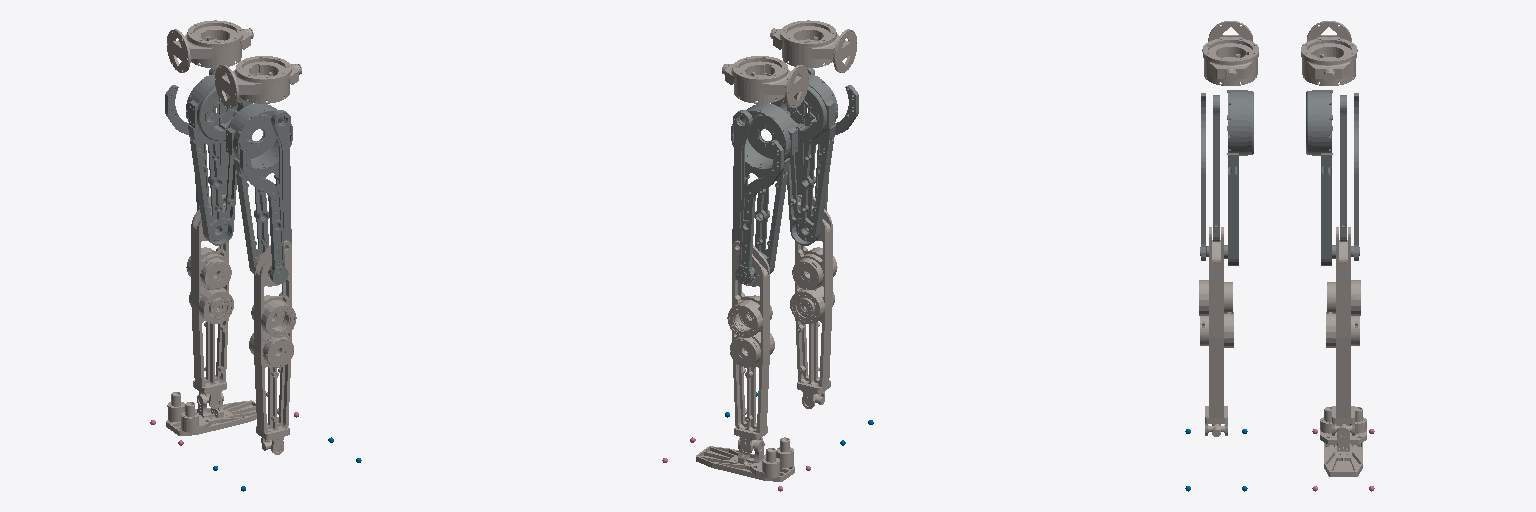
robot.urdf — biped_v3:
<?xml version="1.0" ?>
<!-- =================================================================================== -->
<!-- |    This document was autogenerated by xacro from [local-path]/workspace/kuavo-ros-control/src/humanoid-control/humanoid_interface_drake/models/biped_gen4.0/urdf/biped_v3.xacro | -->
<!-- |    EDITING THIS FILE BY HAND IS NOT RECOMMENDED                                 | -->
<!-- =================================================================================== -->
<robot name="biped_v3" xmlns:drake="https://drake.mit.edu">
  <link name="torso">
    <inertial>
      <origin rpy="0 0 0" xyz="0.00383143 0.0 0.18350901"/>
      <mass value="35.0676395"/>
      <inertia ixx="0.95851611" ixy="0.00026968" ixz="0.06381351" iyy="0.83635568" iyz="0.00069789" izz="0.29474019"/>
    </inertial>
    <visual>
      <origin rpy="0 0 0" xyz="0 0 0"/>
      <geometry>
        <mesh filename="../../meshes/base_link.STL"/>
      </geometry>
      <material name="">
        <color rgba="0.43137 0.45098 0.43137 1"/>
      </material>
    </visual>
    <!-- <collision>
      <origin xyz="0 0 0" rpy="0 0 0" />
      <geometry>
        <mesh filename="../../meshes/base_link.STL" />
      </geometry>
    </collision> -->
  </link>
  <link name="l_leg_roll">
    <inertial>
      <origin rpy="0 0 0" xyz="0.06614234 -0.00000119 -0.00862806"/>
      <mass value="1.53800733"/>
      <inertia ixx="0.00189451" ixy="-0.00000100" ixz="-0.00010566" iyy="0.00282649" iyz="-0.00000006" izz="0.00366404"/>
    </inertial>
    <visual>
      <origin rpy="0 0 0" xyz="0 0 0"/>
      <geometry>
        <mesh filename="../../meshes/l_leg_roll.STL"/>
      </geometry>
      <material name="">
        <color rgba="0.6902 0.65882 0.63922 1"/>
      </material>
    </visual>
  </link>
  <joint name="l_leg_roll_joint" type="continuous">
    <origin rpy="0 0 0" xyz="-0.139 0.088087 -0.065549"/>
    <parent link="torso"/>
    <child link="l_leg_roll"/>
    <axis xyz="1 0 0"/>
    <limit effort="100" lower="-0.78" upper="1.57" velocity="25"/>
  </joint>
  <!--        ssss -->
  <transmission type="SimpleTransmission">
    <joint name="l_leg_roll_joint"/>
    <actuator name="l_leg_roll_motor"/>
  </transmission>
  <!-- sssssssss -->
  <link name="l_leg_yaw">
    <inertial>
      <origin rpy="0 0 0" xyz="0.00000000 0.04610400 -0.13256100"/>
      <mass value="1.60096700"/>
      <inertia ixx="0.00698359" ixy="0.00000237" ixz="-0.00000315" iyy="0.00460736" iyz="-0.00105143" izz="0.00482586"/>
    </inertial>
    <visual>
      <origin rpy="0 0 0" xyz="0 0 0"/>
      <geometry>
        <mesh filename="../../meshes/l_leg_yaw.STL"/>
      </geometry>
      <material name="">
        <color rgba="0.65098 0.61961 0.58824 1"/>
      </material>
    </visual>
  </link>
  <joint name="l_leg_yaw_joint" type="continuous">
    <origin rpy="0 0 0" xyz="0.1365 -0.0010866 -0.033901"/>
    <parent link="l_leg_roll"/>
    <child link="l_leg_yaw"/>
    <axis xyz="0 0 1"/>
    <limit effort="100" lower="-1.57" upper="1.57" velocity="25"/>
  </joint>
  <!--        ssss -->
  <transmission type="SimpleTransmission">
    <joint name="l_leg_yaw_joint"/>
    <actuator name="l_leg_yaw_motor"/>
  </transmission>
  <!-- sssssssss -->
  <link name="l_leg_pitch">
    <inertial>
      <origin rpy="0 0 0" xyz="-0.00644903 -0.09813560 -0.05357606"/>
      <mass value="2.46657100"/>
      <inertia ixx="0.02261778" ixy="-0.00007906" ixz="-0.00029350" iyy="0.02315672" iyz="-0.00182962" izz="0.00415881"/>
    </inertial>
    <visual>
      <origin rpy="0 0 0" xyz="0 0 0"/>
      <geometry>
        <mesh filename="../../meshes/l_leg_pitch.STL"/>
      </geometry>
      <material name="">
        <color rgba="0.52941 0.54902 0.54902 1"/>
      </material>
    </visual>
  </link>
  <joint name="l_leg_pitch_joint" type="continuous">
    <origin rpy="0 0 0" xyz="0 0.094 -0.09"/>
    <parent link="l_leg_yaw"/>
    <child link="l_leg_pitch"/>
    <axis xyz="0 1 0"/>
    <limit effort="100" lower="-2.35" upper="0.78" velocity="47"/>
  </joint>
  <!--        ssss -->
  <transmission type="SimpleTransmission">
    <joint name="l_leg_pitch_joint"/>
    <actuator name="l_leg_pitch_motor"/>
  </transmission>
  <!-- sssssssss -->
  <link name="l_knee">
    <inertial>
      <origin rpy="0 0 0" xyz="0.00080045 -0.00004225 -0.12049699"/>
      <mass value="1.62911554"/>
      <inertia ixx="0.01343597" ixy="-0.00000234" ixz="0.00020391" iyy="0.01359234" iyz="0.00018311" izz="0.00092149"/>
    </inertial>
    <visual>
      <origin rpy="0 0 0" xyz="0 0 0"/>
      <geometry>
        <mesh filename="../../meshes/l_knee.STL"/>
      </geometry>
      <material name="">
        <color rgba="0.68627 0.65882 0.63922 1"/>
      </material>
    </visual>
  </link>
  <joint name="l_knee_pitch_joint" type="revolute">
    <origin rpy="0 0 0" xyz="0.004136 -0.06635 -0.24997"/>
    <parent link="l_leg_pitch"/>
    <child link="l_knee"/>
    <axis xyz="0 1 0"/>
    <limit effort="100" lower="0.0" upper="2.61" velocity="47"/>
  </joint>
  <!--        ssss -->
  <transmission type="SimpleTransmission">
    <joint name="l_knee_pitch_joint"/>
    <actuator name="l_knee_pitch_motor"/>
  </transmission>
  <!-- sssssssss -->
  <link name="l_foot_pitch">
    <inertial>
      <origin rpy="0 0 0" xyz="0.00000000 -0.02099982 0"/>
      <mass value="0.05444454"/>
      <inertia ixx="0.00000411" ixy="0.00000000" ixz="0.00000000" iyy="0.00000411" iyz="0.00000000" izz="0.00000728"/>
    </inertial>
    <visual>
      <origin rpy="0 0 0" xyz="0 0 0"/>
      <geometry>
        <mesh filename="../../meshes/l_foot_pitch.STL"/>
      </geometry>
      <material name="">
        <color rgba="0.6902 0.65882 0.63922 1"/>
      </material>
    </visual>
  </link>
  <joint name="l_foot_pitch_joint" type="continuous">
    <origin rpy="0 0 0" xyz="0 -0.0022 -0.346"/>
    <parent link="l_knee"/>
    <child link="l_foot_pitch"/>
    <axis xyz="0 1 0"/>
    <limit effort="100" lower="-1.57" upper="1.57" velocity="25"/>
  </joint>
  <transmission type="SimpleTransmission">
    <joint name="l_foot_pitch_joint"/>
    <actuator name="l_foot_pitch_motor"/>
  </transmission>
  <!-- sssssssss -->
  <link name="l_foot_roll">
    <inertial>
      <origin rpy="0 0 0" xyz="-0.03594832 0.00000978 -0.02713029"/>
      <mass value="0.46707519"/>
      <inertia ixx="0.00040711" ixy="0.00000016" ixz="-0.00023147" iyy="0.00127525" iyz="-0.00000006" izz="0.00135360"/>
    </inertial>
    <visual>
      <origin rpy="0 0 0" xyz="0 0 0"/>
      <geometry>
        <mesh filename="../../meshes/l_foot_roll.STL"/>
      </geometry>
      <material name="">
        <color rgba="0.6902 0.65882 0.63922 1"/>
      </material>
    </visual>
    <visual>
      <origin rpy="0 0 0" xyz="-0.09 0.05 -0.0465"/>
      <geometry>
        <sphere radius="0.005"/>
      </geometry>
    </visual>
    <collision>
      <origin rpy="0 0 0" xyz="-0.09 0.05 -0.0465"/>
      <geometry>
        <sphere radius="0.005"/>
      </geometry>
    </collision>
    <visual>
      <origin rpy="0 0 0" xyz="-0.09 -0.05 -0.0465"/>
      <geometry>
        <sphere radius="0.005"/>
      </geometry>
    </visual>
    <collision>
      <origin rpy="0 0 0" xyz="-0.09 -0.05 -0.0465"/>
      <geometry>
        <sphere radius="0.005"/>
      </geometry>
    </collision>
    <visual>
      <origin rpy="0 0 0" xyz="0.15 0.05 -0.0465"/>
      <geometry>
        <sphere radius="0.005"/>
      </geometry>
    </visual>
    <collision>
      <origin rpy="0 0 0" xyz="0.15 0.05 -0.0465"/>
      <geometry>
        <sphere radius="0.005"/>
      </geometry>
    </collision>
    <visual>
      <origin rpy="0 0 0" xyz="0.15 -0.05 -0.0465"/>
      <geometry>
        <sphere radius="0.005"/>
      </geometry>
    </visual>
    <collision>
      <origin rpy="0 0 0" xyz="0.15 -0.05 -0.0465"/>
      <geometry>
        <sphere radius="0.005"/>
      </geometry>
    </collision>
  </link>
  <joint name="l_foot_roll_joint" type="continuous">
    <origin rpy="0 0 0" xyz="0 0 0"/>
    <parent link="l_foot_pitch"/>
    <child link="l_foot_roll"/>
    <axis xyz="1 0 0"/>
    <limit effort="100" lower="-1.39" upper="0.78" velocity="25"/>
  </joint>
  <transmission type="SimpleTransmission">
    <joint name="l_foot_roll_joint"/>
    <actuator name="l_foot_roll_motor"/>
  </transmission>
  <!-- sssssssss -->
  <frame link="l_foot_roll" name="l_foot_sole" xyz="0.03 0.0 -0.0465"/>
  <frame link="l_foot_roll" name="l_foot_toe" xyz="0.15 0.0 -0.0465"/>
  <frame link="l_foot_roll" name="l_foot_heel" xyz="-0.09 0.0 -0.0465"/>
  <link name="r_leg_roll">
    <inertial>
      <origin rpy="0 0 0" xyz="0.06614233 0.00000119 -0.00862806"/>
      <mass value="1.53800714"/>
      <inertia ixx="0.00189451" ixy="0.00000100" ixz="-0.00010566" iyy="0.00282648" iyz="0.00000006" izz="0.00366404"/>
    </inertial>
    <visual>
      <origin rpy="0 0 0" xyz="0 0 0"/>
      <geometry>
        <mesh filename="../../meshes/r_leg_roll.STL"/>
      </geometry>
      <material name="">
        <color rgba="0.6902 0.65882 0.63922 1"/>
      </material>
    </visual>
  </link>
  <joint name="r_leg_roll_joint" type="continuous">
    <origin rpy="0 0 0" xyz="-0.139 -0.088087 -0.065549"/>
    <parent link="torso"/>
    <child link="r_leg_roll"/>
    <axis xyz="1 0 0"/>
    <limit effort="100" lower="-1.57" upper="0.78" velocity="25"/>
  </joint>
  <!--        ssss -->
  <transmission type="SimpleTransmission">
    <joint name="r_leg_roll_joint"/>
    <actuator name="r_leg_roll_motor"/>
  </transmission>
  <!-- sssssssss -->
  <link name="r_leg_yaw">
    <inertial>
      <origin rpy="0 0 0" xyz="0.00004661 -0.04610359 -0.13257364"/>
      <mass value="1.60096695"/>
      <inertia ixx="0.00520439" ixy="-0.00000302" ixz="-0.00000372" iyy="0.00397740" iyz="0.00063198" izz="0.00391648"/>
    </inertial>
    <visual>
      <origin rpy="0 0 0" xyz="0 0 0"/>
      <geometry>
        <mesh filename="../../meshes/r_leg_yaw.STL"/>
      </geometry>
      <material name="">
        <color rgba="0.650980392156863 0.619607843137255 0.588235294117647 1"/>
      </material>
    </visual>
  </link>
  <joint name="r_leg_yaw_joint" type="continuous">
    <origin rpy="0 0 0" xyz="0.1365 0.0010866 -0.033901"/>
    <parent link="r_leg_roll"/>
    <child link="r_leg_yaw"/>
    <axis xyz="0 0 1"/>
    <limit effort="100" lower="-1.57" upper="1.57" velocity="25"/>
  </joint>
  <!--        ssss -->
  <transmission type="SimpleTransmission">
    <joint name="r_leg_yaw_joint"/>
    <actuator name="r_leg_yaw_motor"/>
  </transmission>
  <!-- sssssssss -->
  <link name="r_leg_pitch">
    <inertial>
      <origin rpy="0 0 0" xyz="-0.00644903 0.09813560 -0.05357606"/>
      <mass value="2.46657141"/>
      <inertia ixx="0.02254838" ixy="0.00023457" ixz="0.00013808" iyy="0.02319666" iyz="0.00259984" izz="0.00432904"/>
    </inertial>
    <visual>
      <origin rpy="0 0 0" xyz="0 0 0"/>
      <geometry>
        <mesh filename="../../meshes/r_leg_pitch.STL"/>
      </geometry>
      <material name="">
        <color rgba="0.529411764705882 0.549019607843137 0.549019607843137 1"/>
      </material>
    </visual>
  </link>
  <joint name="r_leg_pitch_joint" type="continuous">
    <origin rpy="0 0 0" xyz="0 -0.094 -0.09"/>
    <parent link="r_leg_yaw"/>
    <child link="r_leg_pitch"/>
    <axis xyz="0 1 0"/>
    <limit effort="100" lower="-2.35" upper="0.78" velocity="47"/>
  </joint>
  <!--        ssss -->
  <transmission type="SimpleTransmission">
    <joint name="r_leg_pitch_joint"/>
    <actuator name="r_leg_pitch_motor"/>
  </transmission>
  <!-- sssssssss -->
  <link name="r_knee">
    <inertial>
      <origin rpy="0 0 0" xyz="0.00080045 0.00004225 -0.12049699"/>
      <mass value="1.62911540"/>
      <inertia ixx="0.01343597" ixy="0.00000234" ixz="0.00020391" iyy="0.01359234" iyz="-0.00018311" izz="0.00092149"/>
    </inertial>
    <visual>
      <origin rpy="0 0 0" xyz="0 0 0"/>
      <geometry>
        <mesh filename="../../meshes/r_knee.STL"/>
      </geometry>
      <material name="">
        <color rgba="0.686274509803922 0.658823529411765 0.63921568627451 1"/>
      </material>
    </visual>
  </link>
  <joint name="r_knee_pitch_joint" type="revolute">
    <origin rpy="0 0 0" xyz="0.004136 0.06635 -0.24997"/>
    <parent link="r_leg_pitch"/>
    <child link="r_knee"/>
    <axis xyz="0 1 0"/>
    <limit effort="100" lower="0.0" upper="2.61" velocity="47"/>
  </joint>
  <!--        ssss -->
  <transmission type="SimpleTransmission">
    <joint name="r_knee_pitch_joint"/>
    <actuator name="r_knee_pitch_motor"/>
  </transmission>
  <!-- sssssssss -->
  <link name="r_foot_pitch">
    <inertial>
      <origin rpy="0 0 0" xyz="0 0.02100018 0"/>
      <mass value="0.05444454"/>
      <inertia ixx="0.00000411" ixy="0" ixz="0" iyy="0.00000411" iyz="0" izz="0.00000728"/>
    </inertial>
    <visual>
      <origin rpy="0 0 0" xyz="0 0 0"/>
      <geometry>
        <mesh filename="../../meshes/r_foot_pitch.STL"/>
      </geometry>
      <material name="">
        <color rgba="0.690196078431373 0.658823529411765 0.63921568627451 1"/>
      </material>
    </visual>
  </link>
  <joint name="r_foot_pitch_joint" type="continuous">
    <origin rpy="0 0 0" xyz="0 0.0022 -0.346"/>
    <parent link="r_knee"/>
    <child link="r_foot_pitch"/>
    <axis xyz="0 1 0"/>
    <limit effort="100" lower="-1.57" upper="1.57" velocity="25"/>
  </joint>
  <!--        ssss -->
  <transmission type="SimpleTransmission">
    <joint name="r_foot_pitch_joint"/>
    <actuator name="r_foot_pitch_motor"/>
  </transmission>
  <!-- sssssssss -->
  <link name="r_foot_roll">
    <inertial>
      <origin rpy="0 0 0" xyz="-0.03594837 -0.00000972 -0.02713025"/>
      <mass value="0.46707428"/>
      <inertia ixx="0.00040710" ixy="-0.00000016" ixz="-0.00023147" iyy="0.00127525" iyz="0.00000006" izz="0.00135359"/>
    </inertial>
    <visual>
      <origin rpy="0 0 0" xyz="0 0 0"/>
      <geometry>
        <mesh filename="../../meshes/r_foot_roll.STL"/>
      </geometry>
      <material name="">
        <color rgba="0.690196078431373 0.658823529411765 0.63921568627451 1"/>
      </material>
    </visual>
    <visual>
      <origin rpy="0 0 0" xyz="-0.09 0.05 -0.0465"/>
      <geometry>
        <sphere radius="0.005"/>
      </geometry>
    </visual>
    <collision>
      <origin rpy="0 0 0" xyz="-0.09 0.05 -0.0465"/>
      <geometry>
        <sphere radius="0.005"/>
      </geometry>
    </collision>
    <visual>
      <origin rpy="0 0 0" xyz="-0.09 -0.05 -0.0465"/>
      <geometry>
        <sphere radius="0.005"/>
      </geometry>
    </visual>
    <collision>
      <origin rpy="0 0 0" xyz="-0.09 -0.05 -0.0465"/>
      <geometry>
        <sphere radius="0.005"/>
      </geometry>
    </collision>
    <visual>
      <origin rpy="0 0 0" xyz="0.15 0.05 -0.0465"/>
      <geometry>
        <sphere radius="0.005"/>
      </geometry>
    </visual>
    <collision>
      <origin rpy="0 0 0" xyz="0.15 0.05 -0.0465"/>
      <geometry>
        <sphere radius="0.005"/>
      </geometry>
    </collision>
    <visual>
      <origin rpy="0 0 0" xyz="0.15 -0.05 -0.0465"/>
      <geometry>
        <sphere radius="0.005"/>
      </geometry>
    </visual>
    <collision>
      <origin rpy="0 0 0" xyz="0.15 -0.05 -0.0465"/>
      <geometry>
        <sphere radius="0.005"/>
      </geometry>
    </collision>
  </link>
  <joint name="r_foot_roll_joint" type="continuous">
    <origin rpy="0 0 0" xyz="0 0 0"/>
    <parent link="r_foot_pitch"/>
    <child link="r_foot_roll"/>
    <axis xyz="1 0 0"/>
    <limit effort="100" lower="-1.39" upper="0.78" velocity="25"/>
  </joint>
  <!--        ssss -->
  <transmission type="SimpleTransmission">
    <joint name="r_foot_roll_joint"/>
    <actuator name="r_foot_roll_motor"/>
  </transmission>
  <!-- sssssssss -->
  <frame link="r_foot_roll" name="r_foot_sole" xyz="0.03 -0.0 -0.0465"/>
  <frame link="r_foot_roll" name="r_foot_toe" xyz="0.15 -0.0 -0.0465"/>
  <frame link="r_foot_roll" name="r_foot_heel" xyz="-0.09 -0.0 -0.0465"/>
</robot>

--- Render facts (derived) ---
The picture shows the robot from 3 angles, left to right: view 1: azimuth 30°, elevation 25°; view 2: azimuth 150°, elevation 25°; view 3: azimuth 270°, elevation 25°; orthographic projection.
Model biped_v3 with 13 links and 12 joints (2 revolute, 10 continuous), rooted at torso, posed all joints at 0.
Links seen in each view (by area): view 1: r_leg_pitch, l_leg_pitch, r_knee, l_knee, r_leg_roll, l_leg_roll, l_foot_roll; view 2: l_leg_pitch, r_leg_pitch, l_knee, r_knee, l_leg_roll, r_leg_roll, l_foot_roll; view 3: l_leg_pitch, r_leg_pitch, l_knee, r_knee, l_leg_roll, r_leg_roll, l_foot_roll.
Boxes of the visible links, x1,y1,x2,y2 form: r_leg_pitch: [226, 103, 292, 284]; l_leg_pitch: [165, 65, 252, 245]; r_knee: [249, 240, 296, 454]; l_knee: [186, 195, 233, 408]; r_leg_roll: [215, 56, 301, 107]; l_leg_roll: [167, 20, 253, 72]; l_foot_roll: [150, 392, 298, 445]; l_leg_pitch: [731, 103, 797, 284]; r_leg_pitch: [771, 65, 858, 245]; l_knee: [727, 240, 774, 454]; r_knee: [790, 195, 837, 408]; l_leg_roll: [722, 56, 808, 107]; r_leg_roll: [770, 20, 856, 72]; l_foot_roll: [662, 437, 810, 491]; l_leg_pitch: [1306, 90, 1359, 265]; r_leg_pitch: [1200, 90, 1253, 265]; l_knee: [1326, 227, 1360, 435]; r_knee: [1199, 227, 1233, 435]; l_leg_roll: [1301, 21, 1357, 85]; r_leg_roll: [1202, 21, 1258, 85]; l_foot_roll: [1312, 407, 1374, 491].
Bounding box of the posed robot: 0.25 × 0.3349 × 0.8109 m (x, y, z).
9 mesh visuals loaded from 13 distinct referenced files (9 binary STL); not drawn: 4 (reference not matched to a file when rendering).